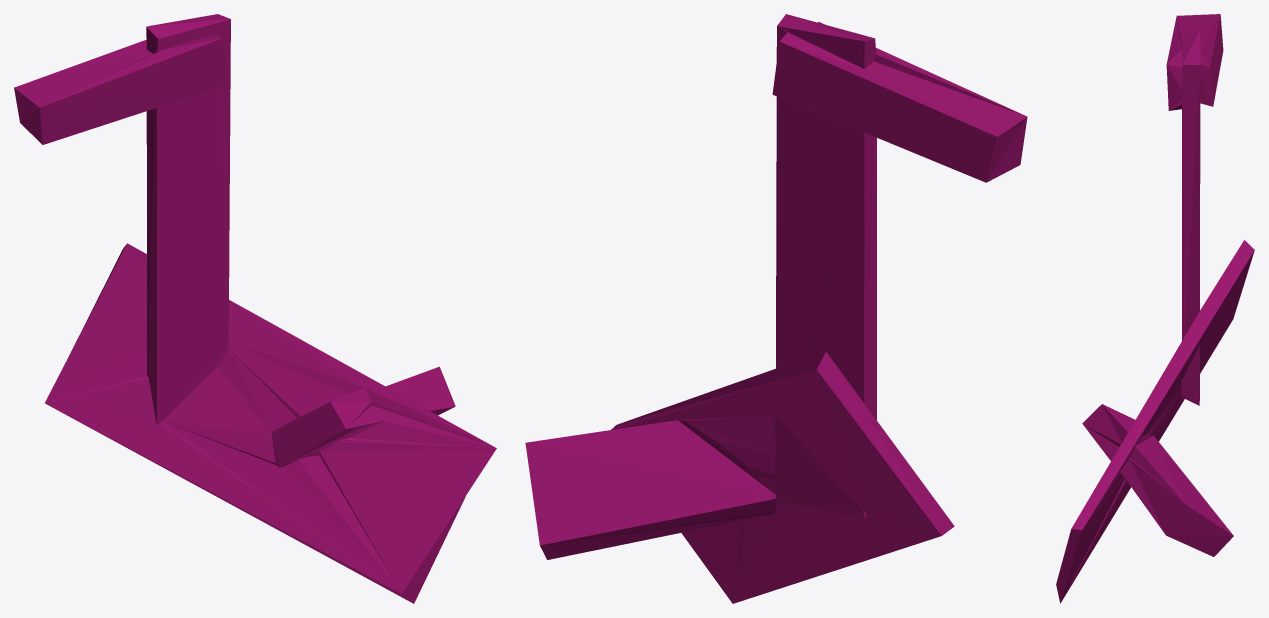
3 renders of one model, left to right at view 1: azimuth 30°, elevation 25°; view 2: azimuth 150°, elevation 25°; view 3: azimuth 270°, elevation 25°, orthographic. The views are drawn at different scales.
Parts seen in each view (by area): view 1: 077_Cube.316; view 2: 077_Cube.316; view 3: 077_Cube.316.
Part boxes in pixels (bbox=[...]): 077_Cube.316: bbox=[14, 14, 496, 603]; 077_Cube.316: bbox=[525, 14, 1027, 603]; 077_Cube.316: bbox=[1056, 14, 1254, 603].
Bounding box in the file's own units: 13.42 × 17.64 × 6.44.
